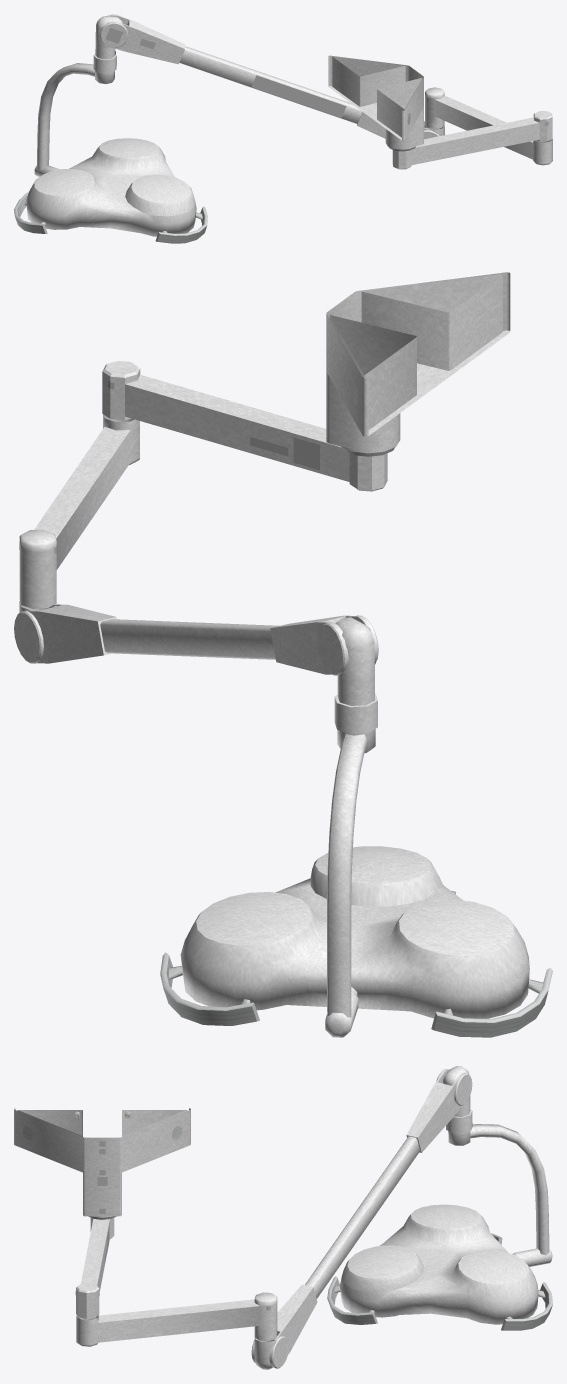
The model's file is operateLight 1.fbx.
3 views of the same model, one above another, from view 1: azimuth 30°, elevation 25°; view 2: azimuth 150°, elevation 25°; view 3: azimuth 270°, elevation 25° (orthographic). The views are drawn at different scales.
Visible parts, largest first — view 1: comp4, comp3, LampArm, component1, comp2; view 2: comp4, LampArm, comp3, component1, comp2; view 3: comp4, LampArm, comp3, comp2, component1.
Part boxes in pixels (box(x1,y1,x2,y2)): comp4: box(14, 16, 207, 243); comp3: box(100, 14, 439, 139); LampArm: box(328, 55, 423, 151); component1: box(392, 111, 552, 169); comp2: box(424, 87, 552, 165); comp4: box(160, 617, 552, 1037); LampArm: box(326, 272, 510, 456); comp3: box(14, 603, 378, 675); component1: box(102, 361, 387, 491); comp2: box(19, 414, 139, 612); comp4: box(327, 1066, 552, 1330); LampArm: box(14, 1108, 190, 1219); comp3: box(251, 1069, 472, 1368); comp2: box(76, 1292, 277, 1369); component1: box(75, 1218, 114, 1318).
Bounding box in the file's own units: 150 × 82.88 × 157.
